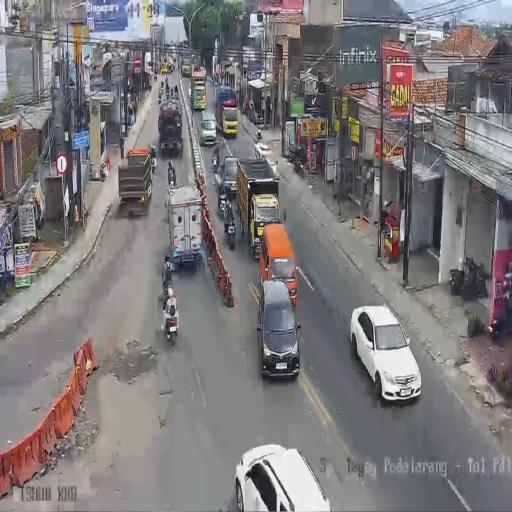3: (236, 158, 279, 258), (165, 182, 202, 272), (118, 147, 153, 218), (158, 100, 183, 156), (216, 86, 238, 134), (191, 81, 206, 112), (180, 56, 192, 78)
car: (350, 304, 422, 402), (233, 443, 333, 511), (258, 280, 301, 378), (218, 154, 240, 199), (252, 139, 277, 176), (199, 110, 217, 146), (161, 61, 168, 74), (188, 84, 192, 102)
truck: (162, 300, 178, 342), (150, 151, 157, 173), (165, 76, 169, 94), (174, 85, 179, 99), (158, 93, 161, 106)
